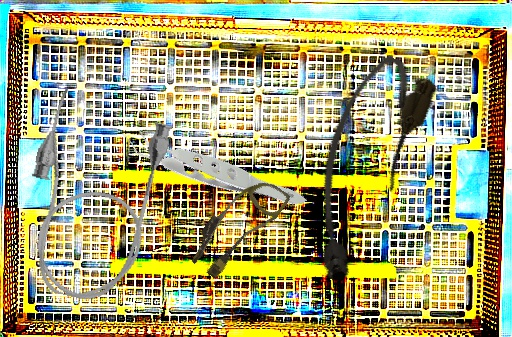Cannula: (281, 47, 443, 290), (7, 85, 176, 311), (183, 166, 292, 287)
Tissue Forceps: (117, 65, 309, 266)
